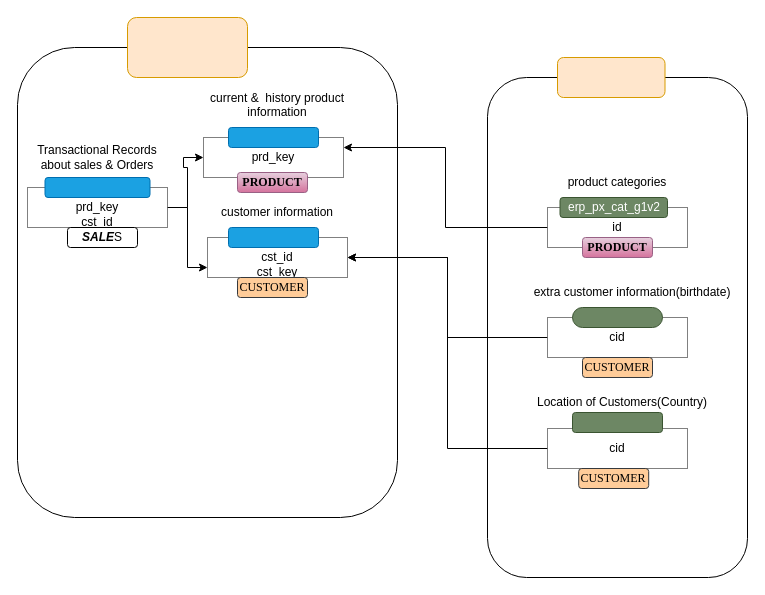
This 765x595 diagram has some shape labels left out. Each missing label, with the centre of its shape:
CRM: the point at 187,47
crm_cust_info: the point at 273,237
crm_prd_info: the point at 273,137
crm_sales_details: the point at 97,187
ERP: the point at 610,77
erp_cust_az12: the point at 617,317
erp_loc_a101: the point at 617,422
